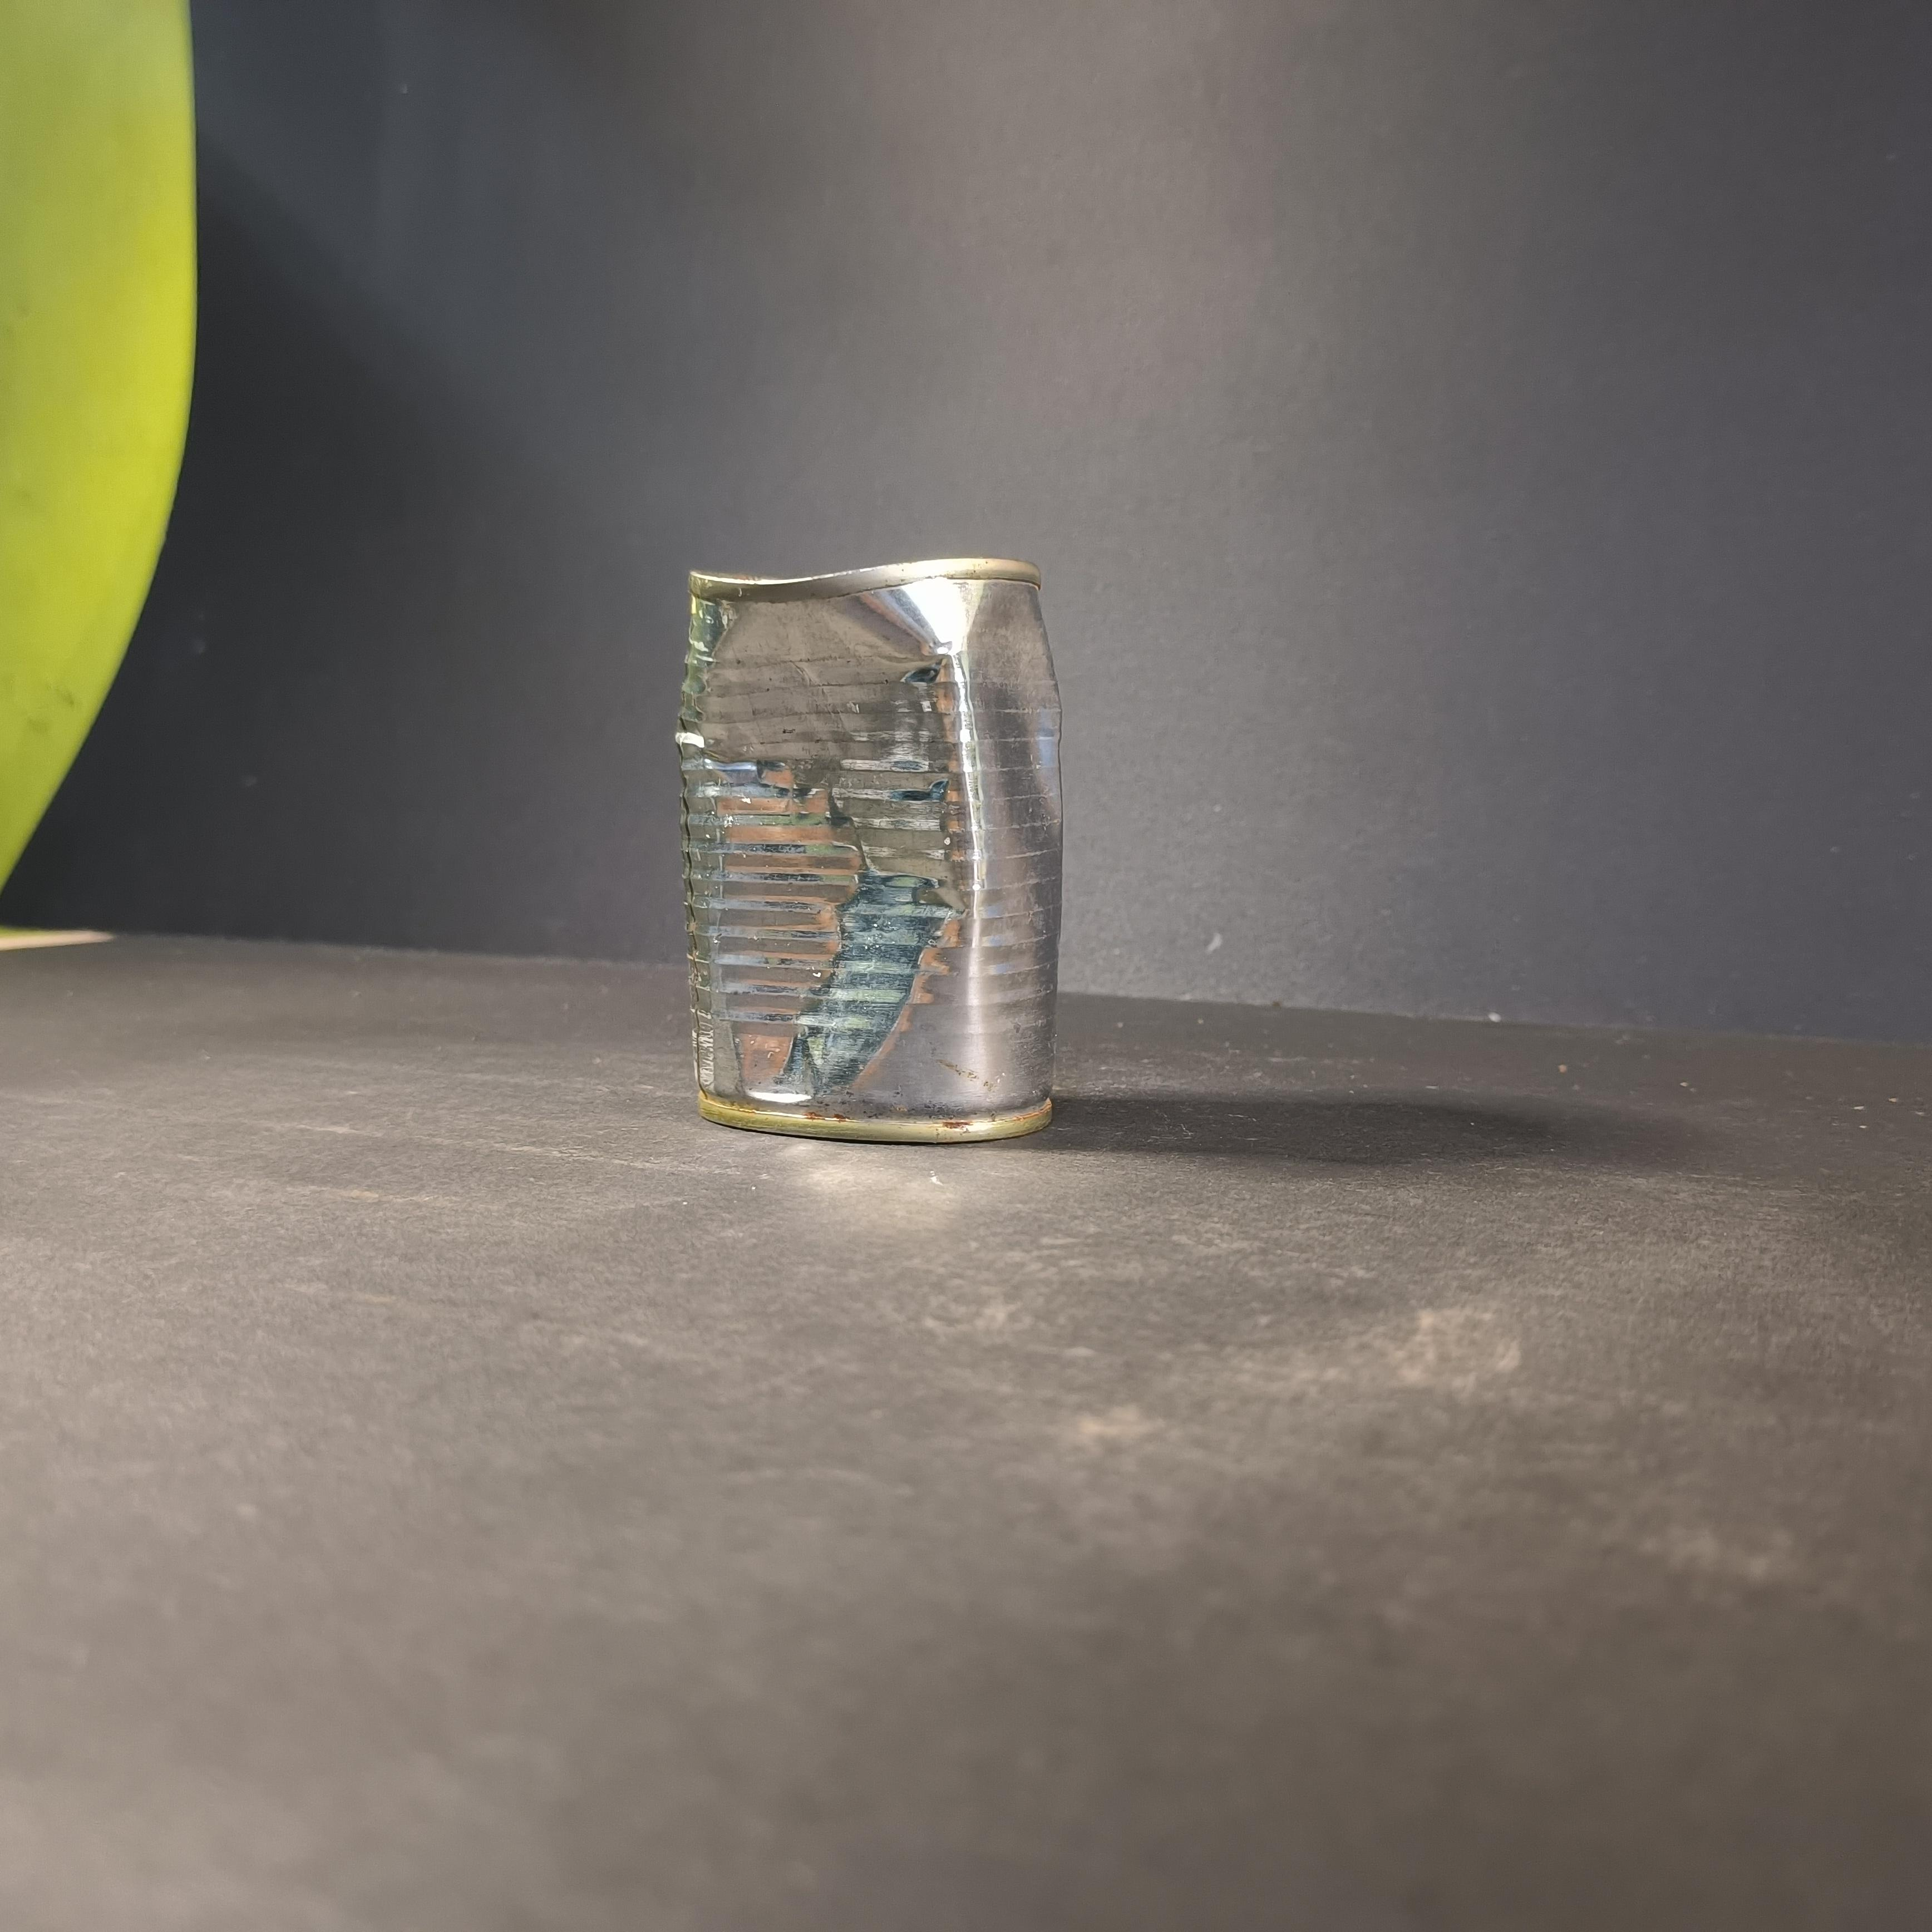Major Defect: (674, 555, 1064, 1146)
